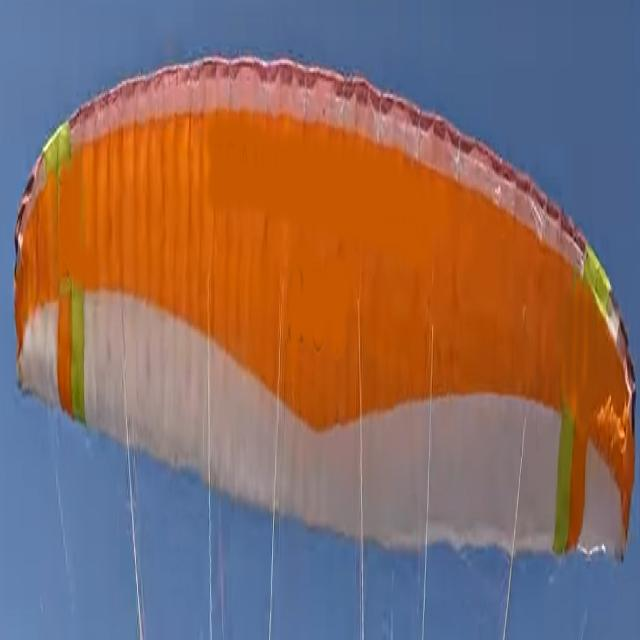paraglider: (12, 54, 638, 580)
